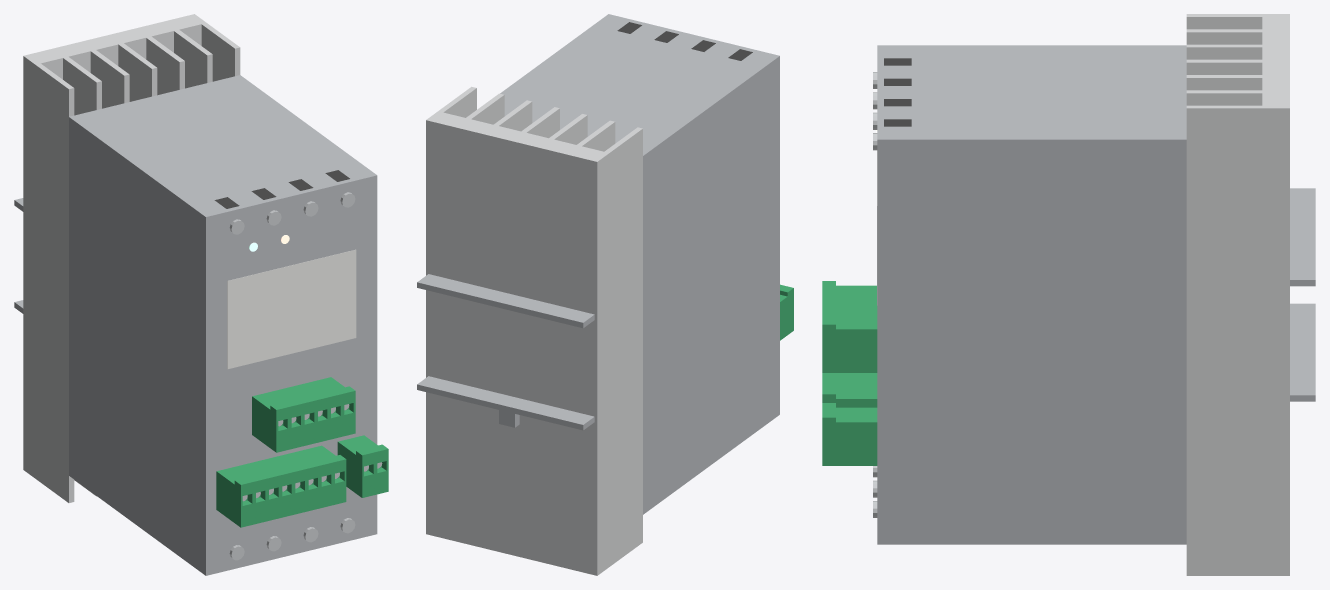
File: servo-drive.glb
3 views of the same model, side by side, from view 1: azimuth 30°, elevation 25°; view 2: azimuth 150°, elevation 25°; view 3: azimuth 270°, elevation 25° (orthographic). The views are drawn at different scales.
Visible parts, largest first — view 1: body; view 2: body; view 3: body.
Part boxes in pixels (x1=…): body: x1=14, y1=14, x2=388, y2=575; body: x1=417, y1=14, x2=793, y2=575; body: x1=822, y1=14, x2=1315, y2=575.
Size of what is drawn, in the model's own units: 0.065 by 0.15 by 0.1435.
